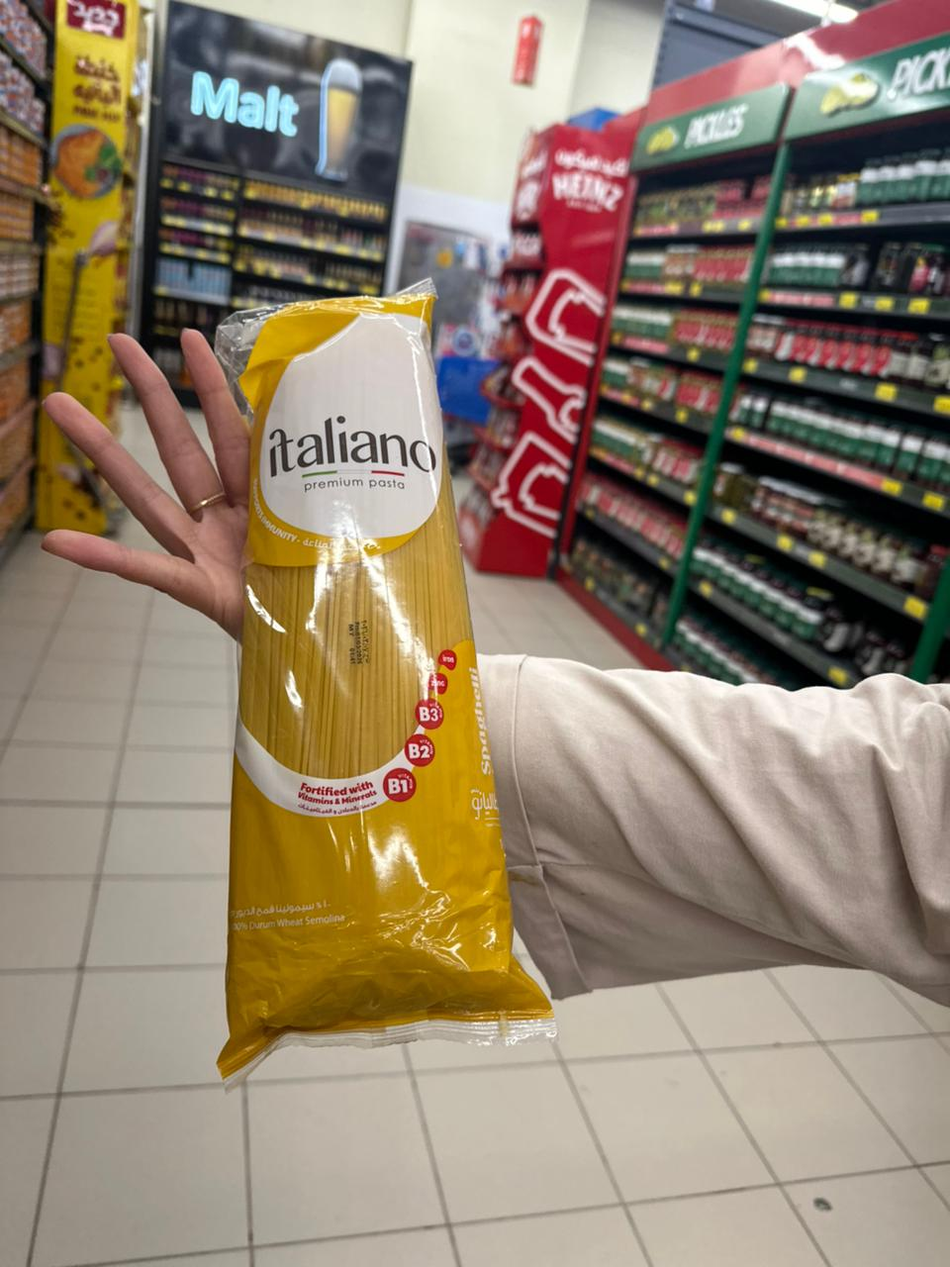spaghetti: (218, 286, 553, 1079)
